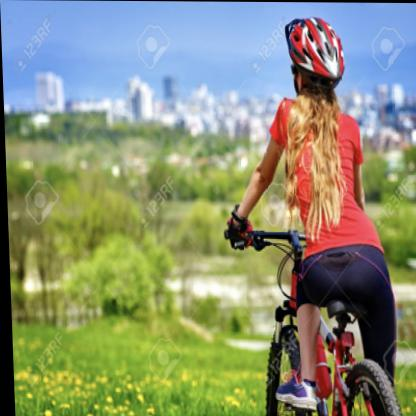With Helmet: (280, 18, 351, 96)
